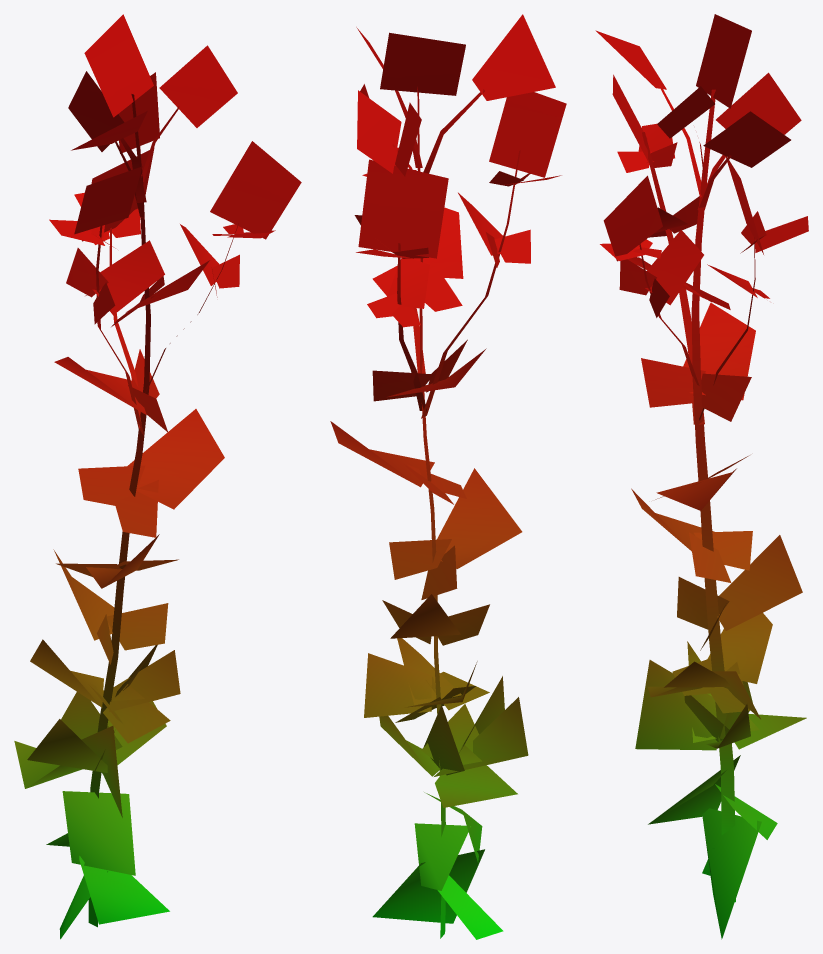
The model's file is FlowerLOD.fbx.
3 renders of one model, left to right at view 1: azimuth 30°, elevation 25°; view 2: azimuth 150°, elevation 25°; view 3: azimuth 270°, elevation 25°, orthographic.
Parts seen in each view (by area): view 1: Flower1_LOD0; view 2: Flower1_LOD0; view 3: Flower1_LOD0.
Part boxes in pixels (bbox=[...]): Flower1_LOD0: bbox=[14, 14, 301, 939]; Flower1_LOD0: bbox=[330, 14, 566, 939]; Flower1_LOD0: bbox=[595, 14, 808, 939].
Size of what is drawn, in the model's own units: 0.8608 by 3.33 by 0.721.
